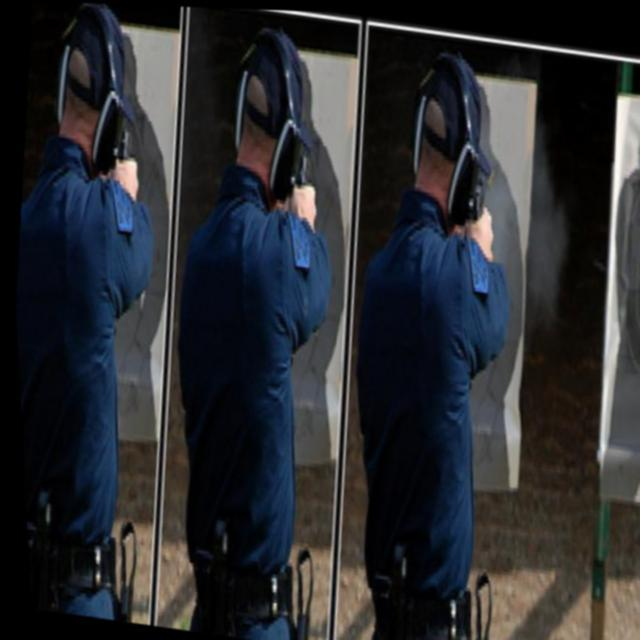weapon: (464, 184, 498, 232), (108, 124, 135, 172), (290, 152, 312, 201)
